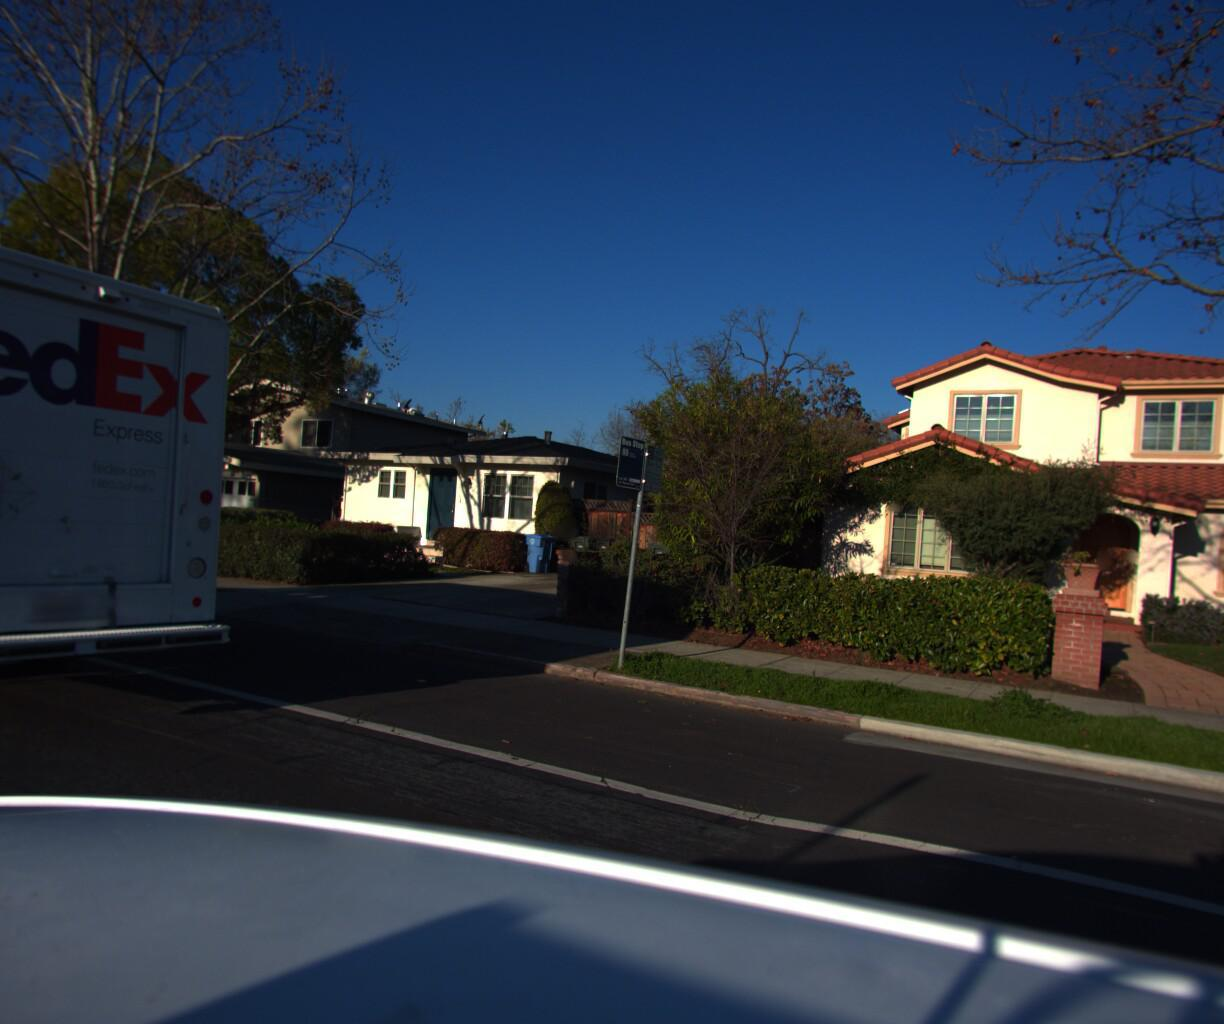truck: (0, 191, 266, 790)
